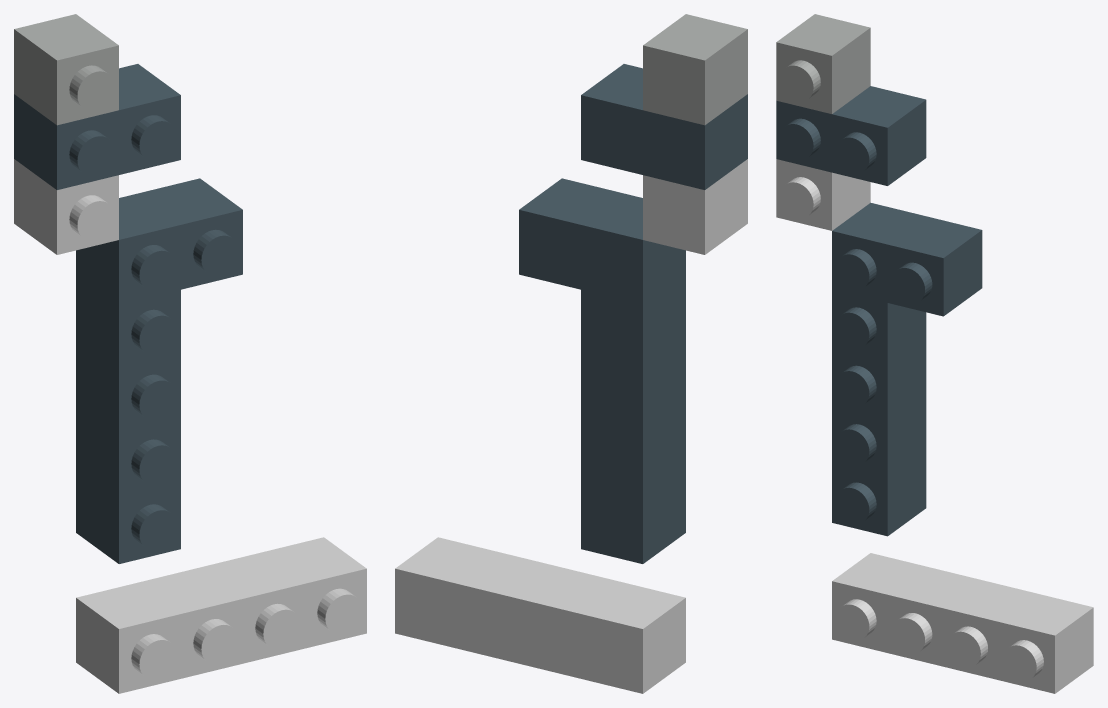
File: current.glb
3 views of the same model, side by side, from view 1: azimuth 30°, elevation 25°; view 2: azimuth 150°, elevation 25°; view 3: azimuth 330°, elevation 25° (orthographic). The views are drawn at different scales.
Visible parts, largest first — view 1: world; view 2: world; view 3: world.
Boxes of the visible parts, x1=… form: world: x1=14, y1=14, x2=366, y2=693; world: x1=395, y1=14, x2=747, y2=693; world: x1=776, y1=14, x2=1093, y2=693.
Bounding box in the file's own units: 40 × 80 × 11.4.
